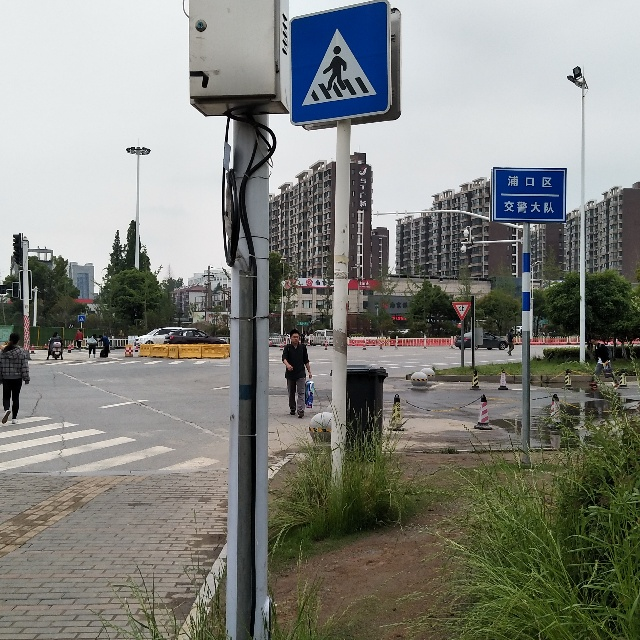crosswalk: (293, 22, 387, 114)
